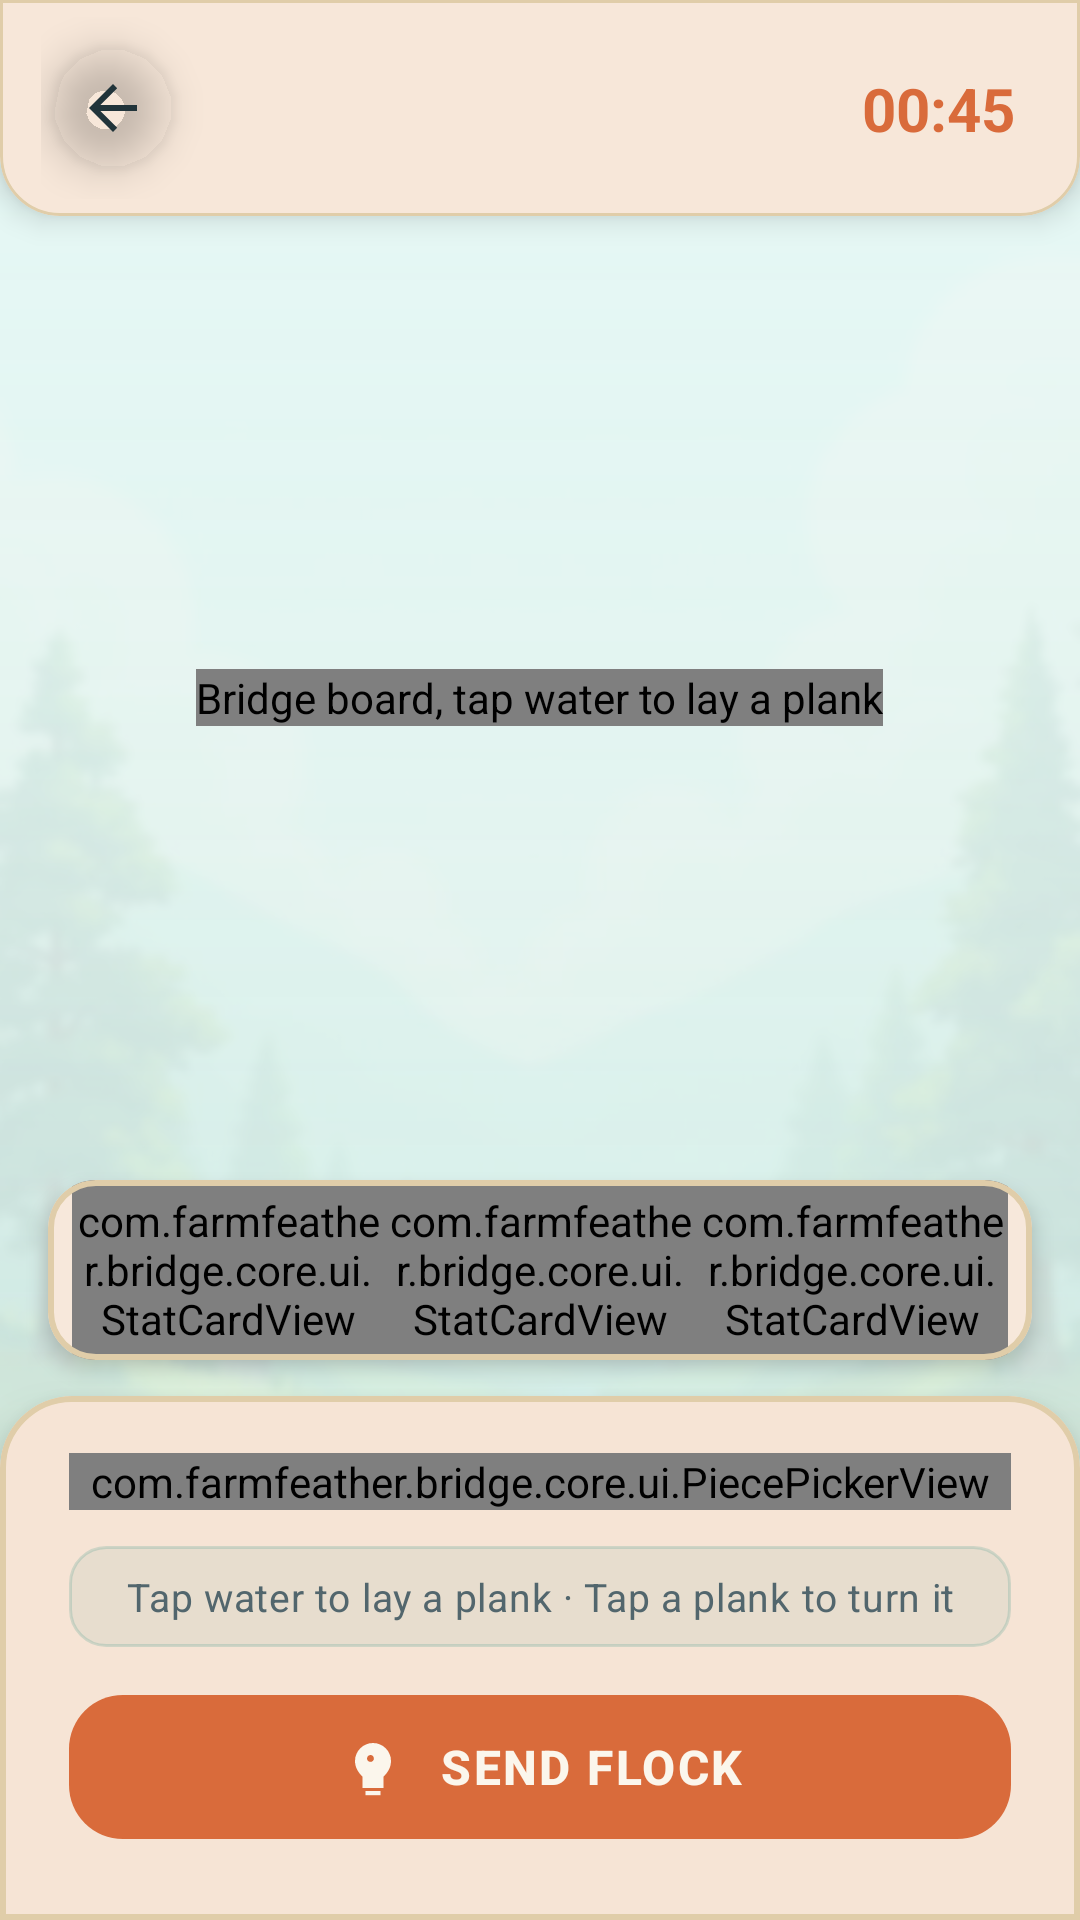

Locate icon controls on the screen. Image size 1080px x 1920px, boxes as (x1, y1, x2, y2).
Back to the menu: (52, 60, 152, 166)
